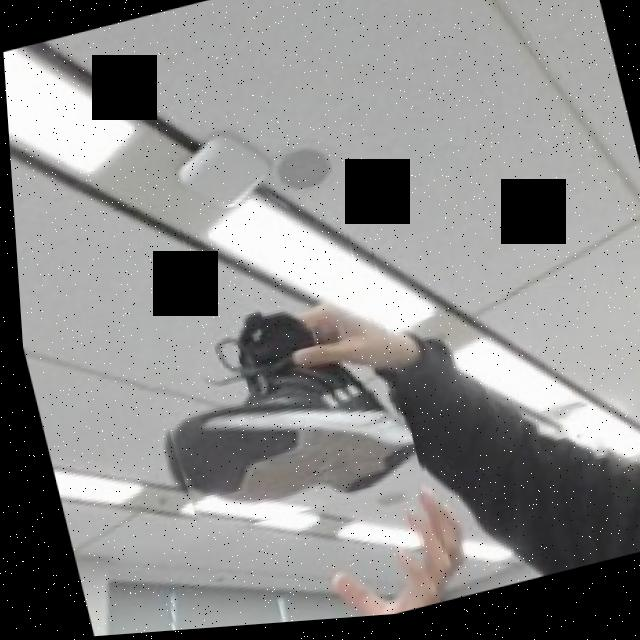shoe: (131, 278, 418, 544)
